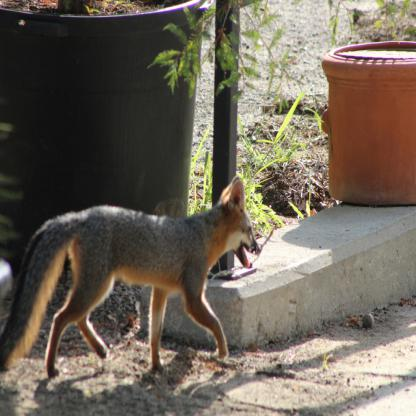zorro: (0, 174, 269, 390)
